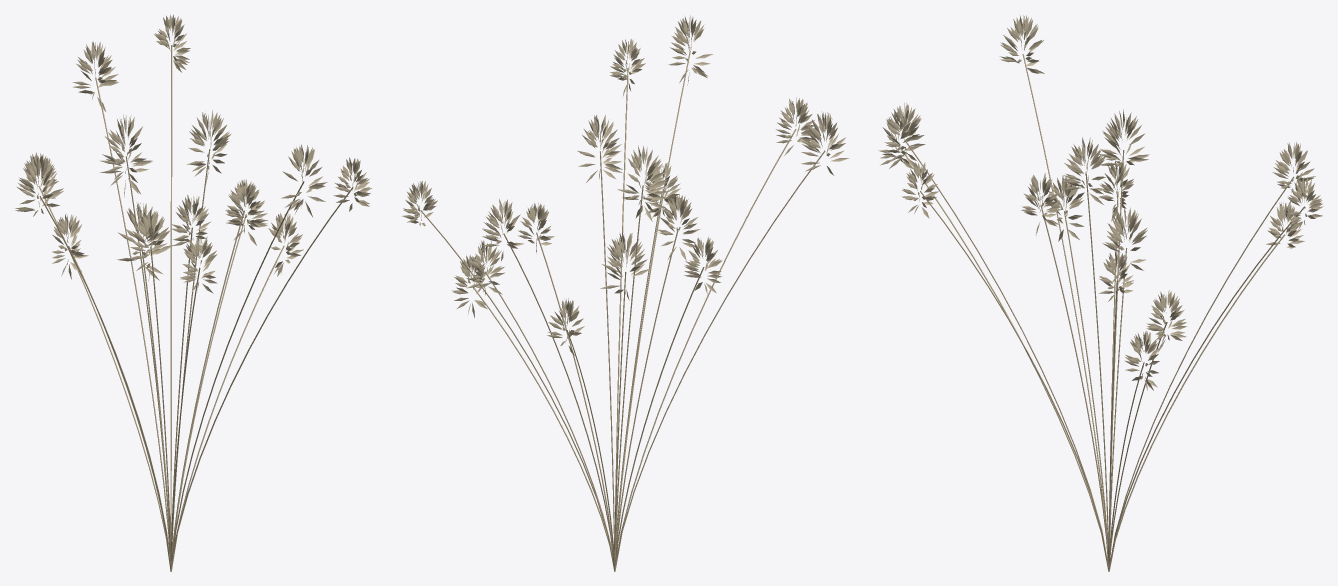
Rendered from bunny-2.glb.
3 renders of one model, left to right at view 1: azimuth 30°, elevation 25°; view 2: azimuth 150°, elevation 25°; view 3: azimuth 270°, elevation 25°, orthographic. The views are drawn at different scales.
Parts seen in each view (by area): view 1: bunny-leaves, bunny-stems; view 2: bunny-leaves, bunny-stems; view 3: bunny-leaves, bunny-stems.
Part boxes in pixels (box(x1,y1,x2,y2)): bunny-leaves: box(15, 14, 371, 293); bunny-stems: box(38, 45, 352, 571); bunny-leaves: box(402, 15, 849, 355); bunny-stems: box(420, 51, 825, 571); bunny-leaves: box(878, 15, 1323, 390); bunny-stems: box(898, 54, 1304, 571).
Bounding box in the file's own units: 0.4918 × 0.6763 × 0.5685.
